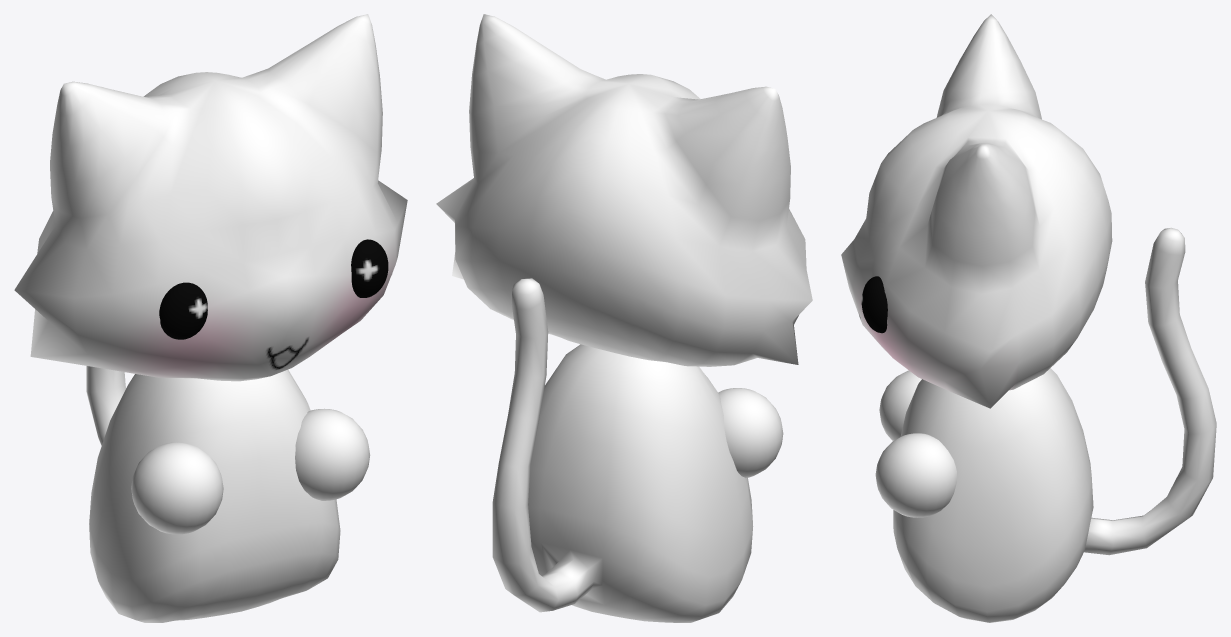
Rendered from catchara.fbx.
The picture shows the model from 3 angles, left to right: view 1: azimuth 30°, elevation 25°; view 2: azimuth 150°, elevation 25°; view 3: azimuth 270°, elevation 25°; orthographic projection. The views are drawn at different scales.
Visible parts, largest first — view 1: Sphere.008; view 2: Sphere.008; view 3: Sphere.008.
Boxes of the visible parts, x1,y1,x2,y2 form: Sphere.008: (14,14,407,622); Sphere.008: (436,14,812,622); Sphere.008: (841,14,1216,622).
Size of the model in its own units: 72.24 by 99.56 by 66.07.
